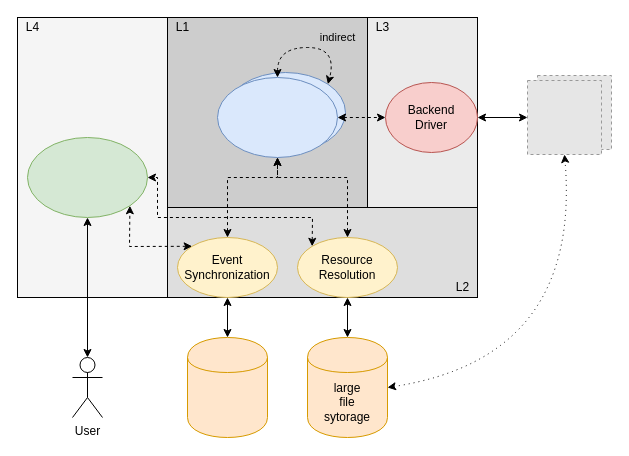
Image size: 629x456. Some labels were removed from this diagram. Grey dashed boxes stand in for pictures. The shapes that lost their labels are listed below. From the top down, each one's centre as x and y in pixels, then its label:
[277,117]: Winslow Orchestration Service
[87,177]: REST API
[227,387]: synchronized storage
